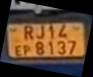character: (34, 23, 45, 40), (23, 25, 34, 40), (57, 23, 68, 38), (66, 39, 76, 55), (34, 40, 44, 55), (56, 40, 66, 55), (47, 24, 54, 39), (47, 40, 54, 54), (14, 44, 22, 56), (22, 44, 30, 56)
